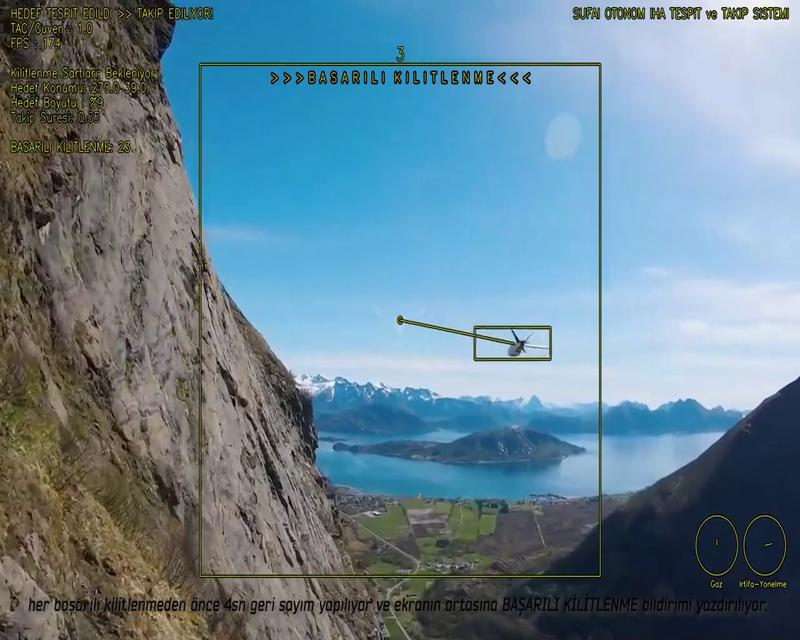UAV: (485, 329, 551, 357)
